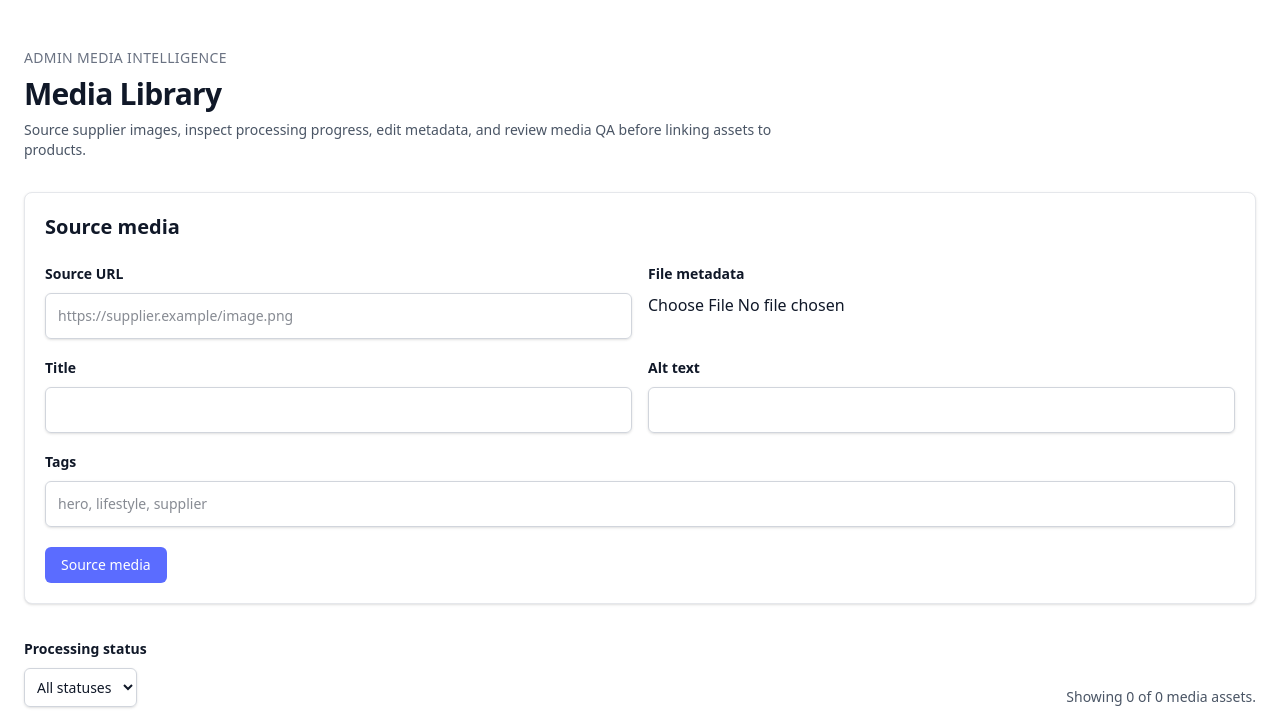
Scenario: MediaLibrary › sources media and adds the returned preview to the grid
Type "https://supplier.example/new.png" into the field labelled "Source URL" at (338, 316), box [45, 293, 632, 339]
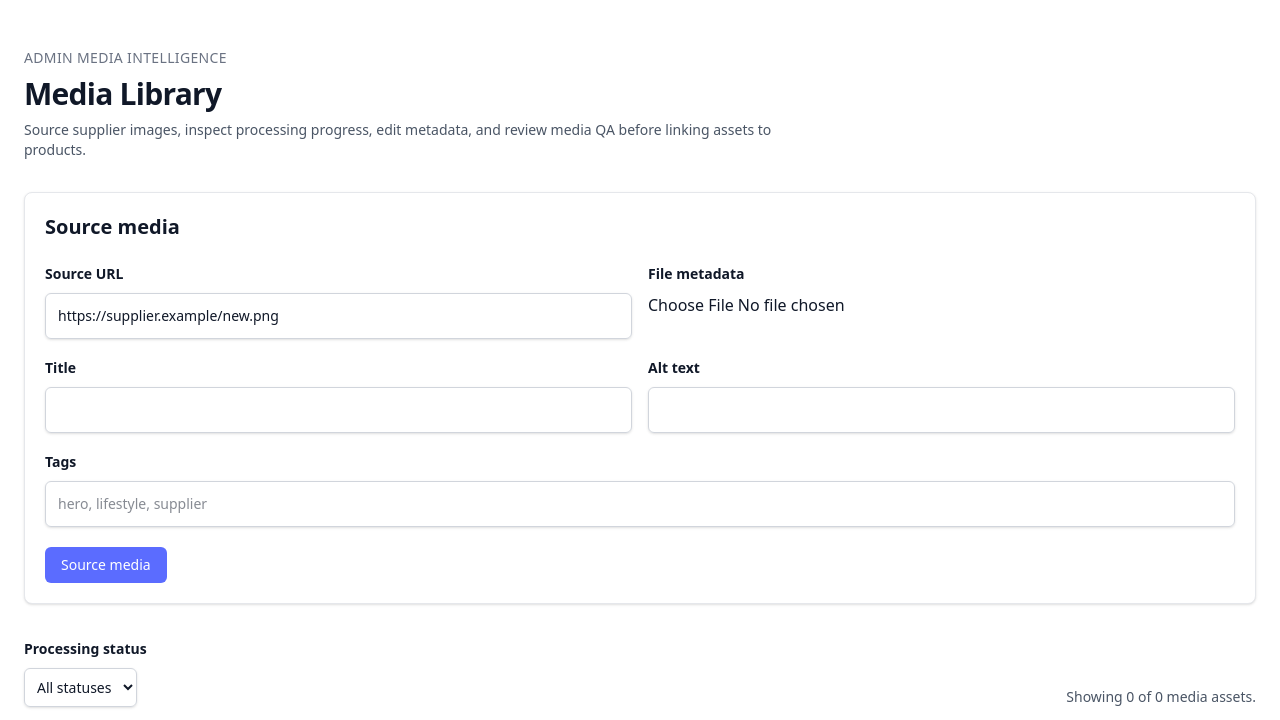
Type "New hero image" into the field labelled "Title" at (338, 410), box [45, 387, 632, 433]
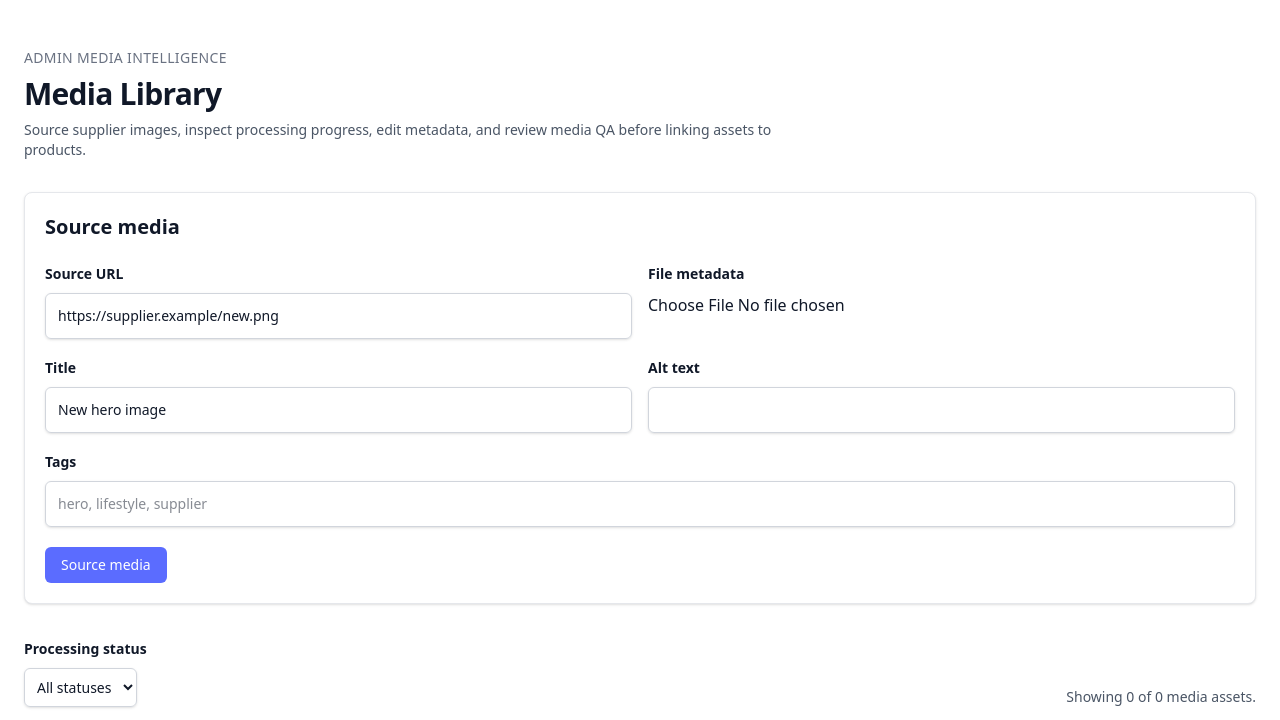
Type "New accessible alt text" into the field labelled "Alt text" at (942, 410), box [648, 387, 1235, 433]
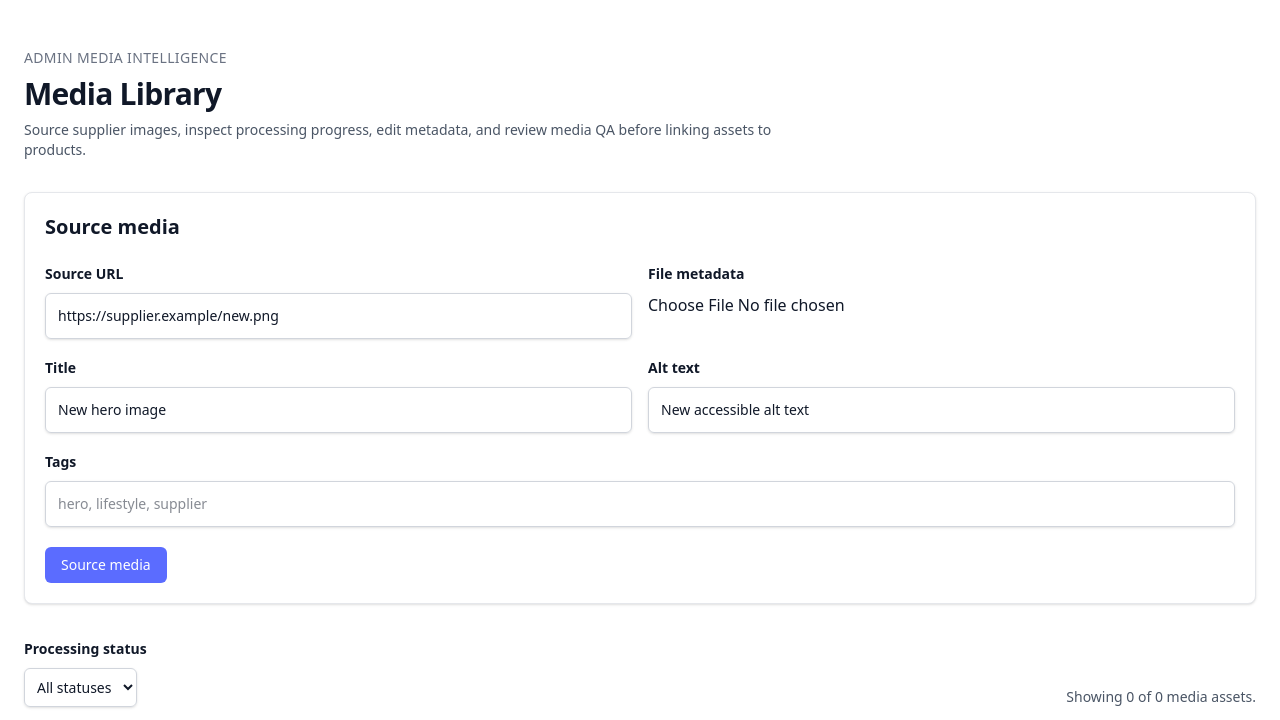
Type "new" into the field labelled "Tags" at (640, 504), box [45, 481, 1235, 527]
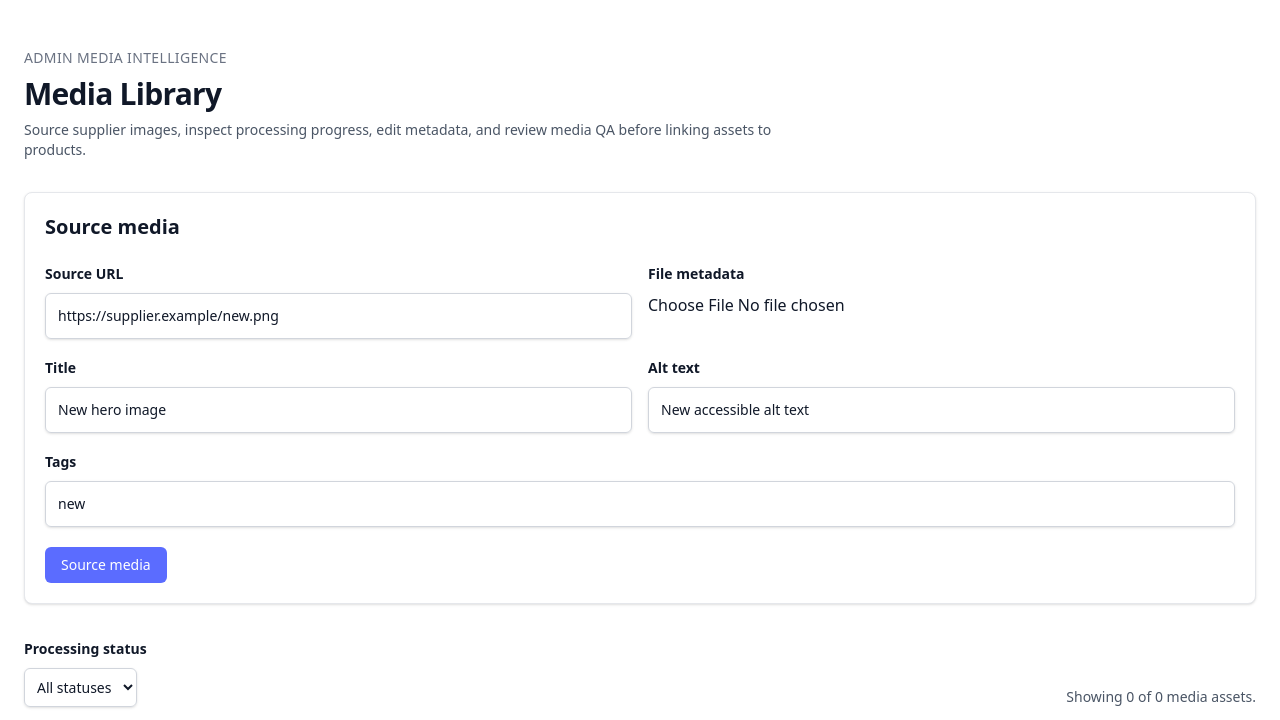
Click the button "Source media" at (106, 565), box [45, 547, 167, 583]
(page scrolled)
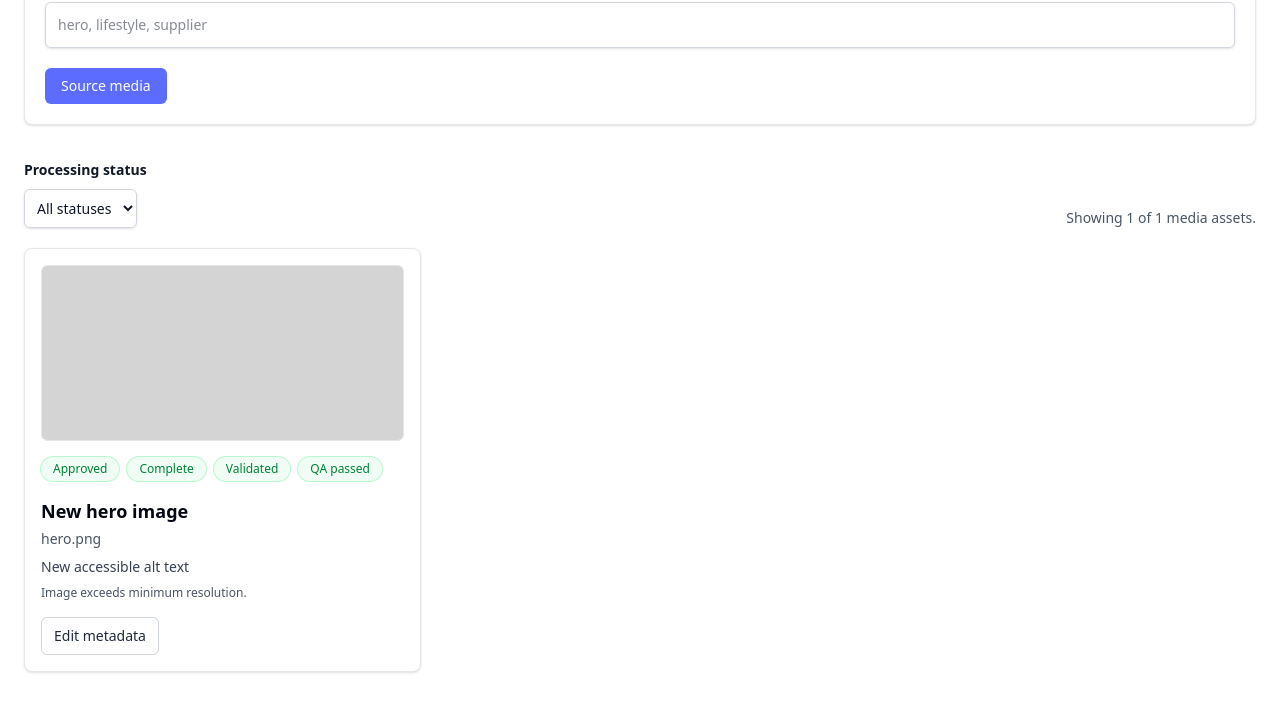
Expected: the heading "New hero image" is shown, [41, 499, 188, 523]
